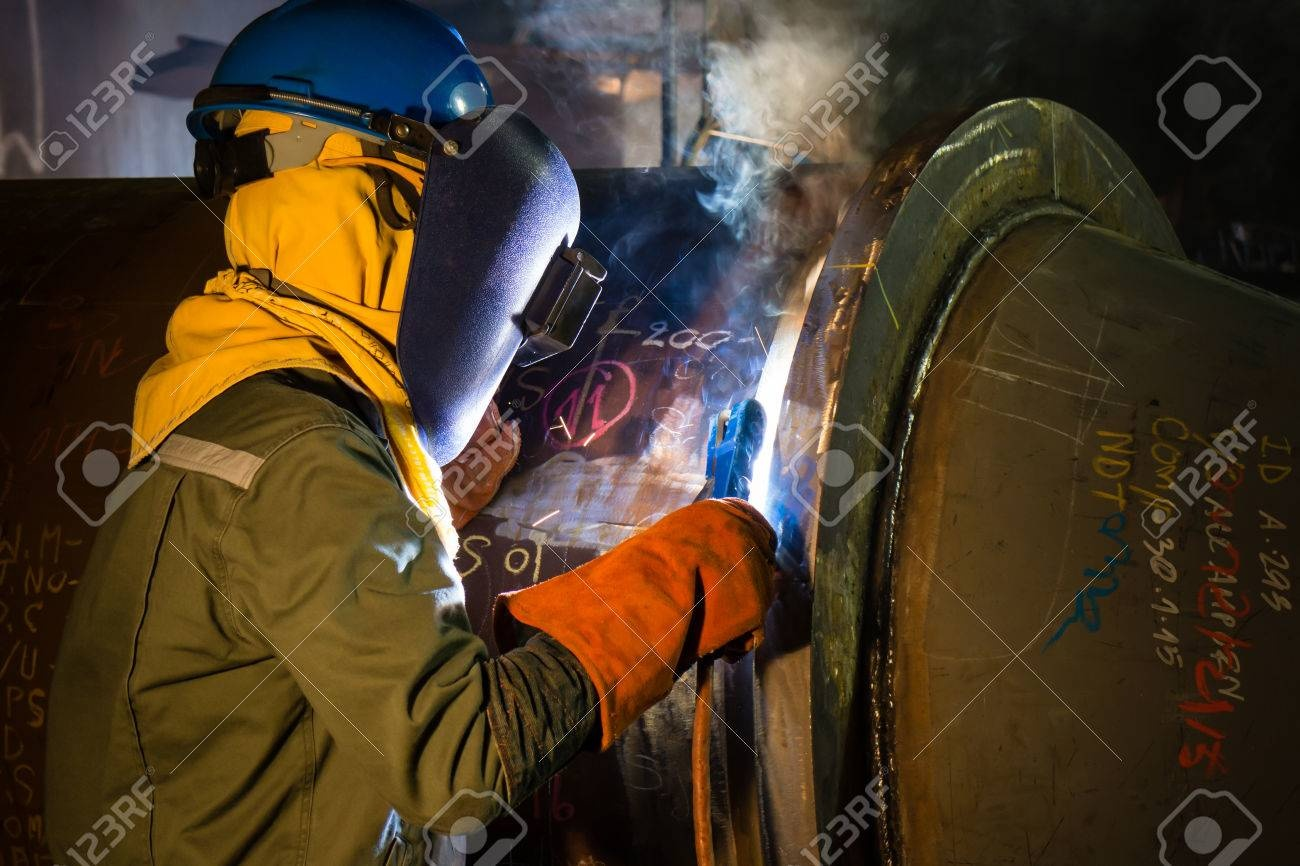blue: (193, 2, 500, 322)
